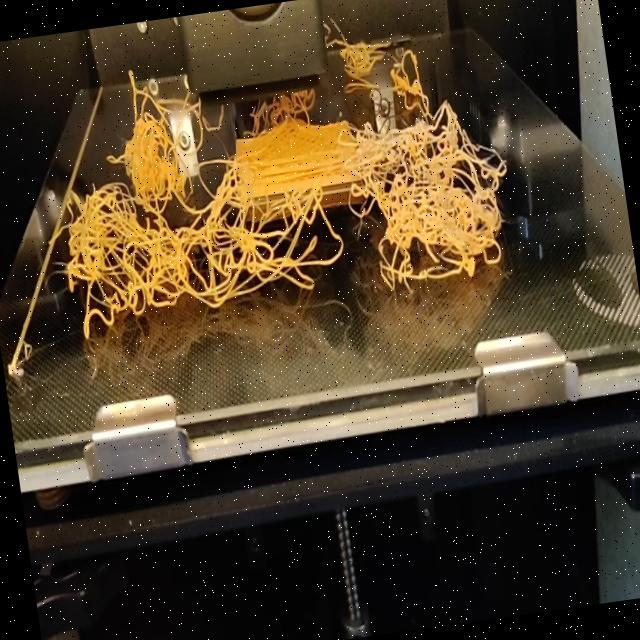spaghetti: (42, 58, 526, 341), (322, 4, 420, 80), (123, 68, 152, 114)
